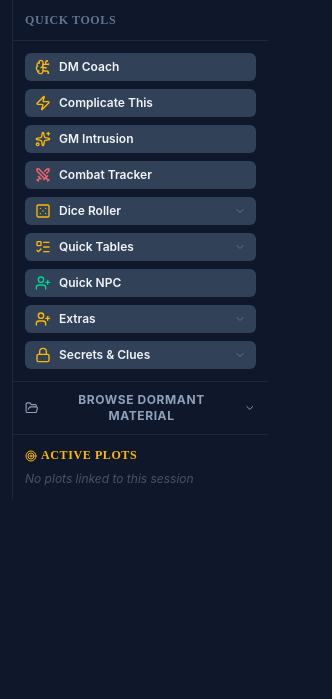
a second button next to Complicate This, nothing to type › never asks the DM to write anything, before or after generating
The image size is (332, 699).
Click the button "GM Intrusion" at (140, 139), box [25,125,256,153]
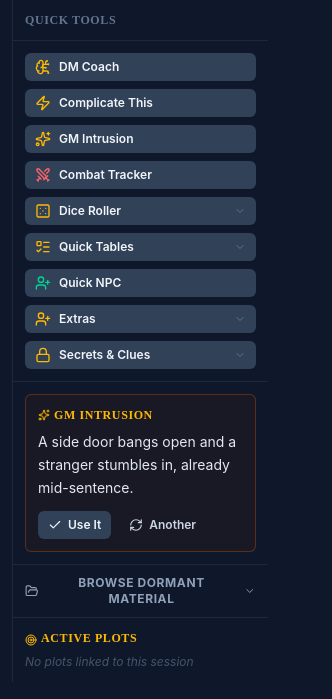
expect the text "A side door bangs open and a stranger stumbles in, already mid-sentence." is shown: met, box [38,431,243,499]
